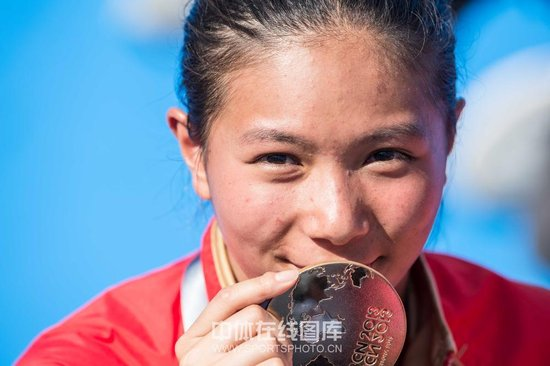face: (211, 26, 445, 300)
